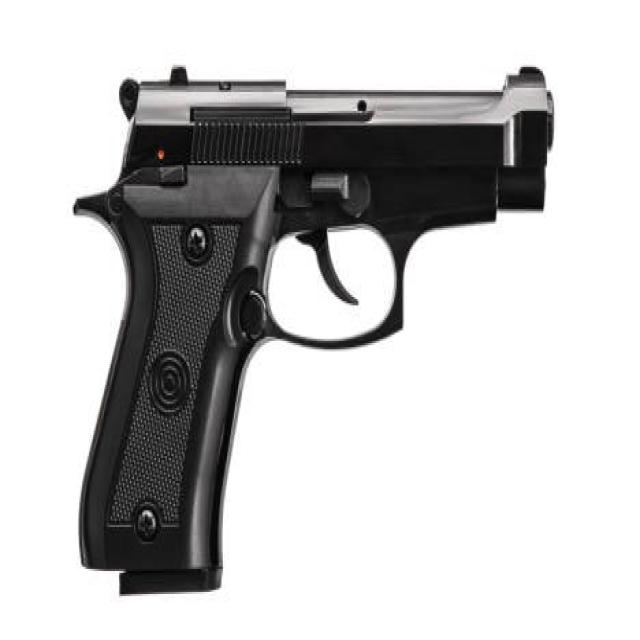pistol: (59, 51, 571, 606)
